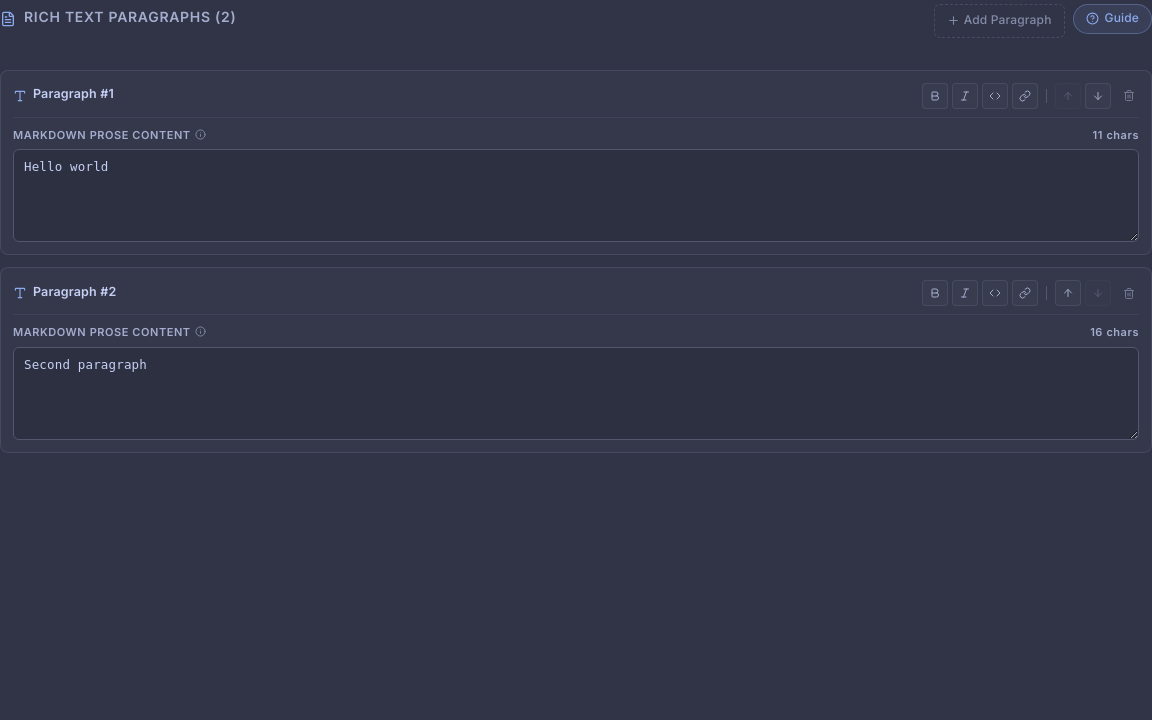
VisualFormEditor › renders text form editor for text type
Expected: the text box with test id "text-paragraph-input-0" is shown, [13, 149, 1139, 242]
Expected: the button with test id "text-add-paragraph" is shown, [934, 4, 1064, 38]
Test guide modal
Click the button with test id "text-editor-help-btn" at (1112, 19), box [1072, 4, 1151, 34]
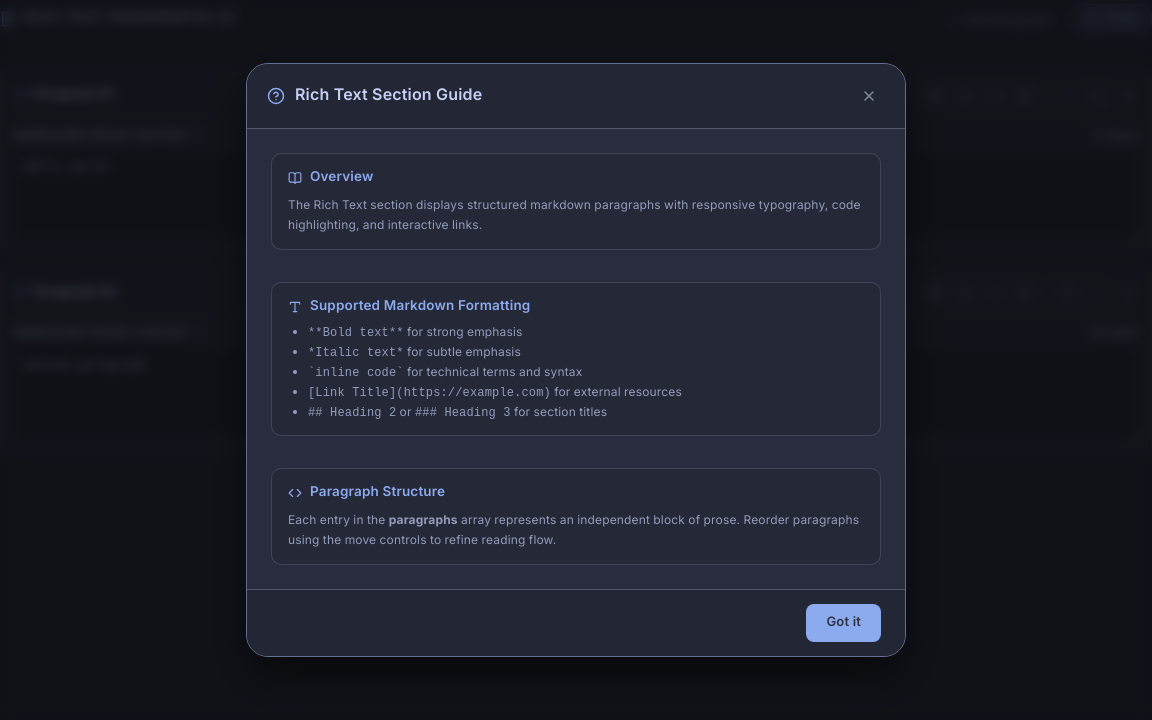
Expected: the element with test id "text-help-modal" is shown
